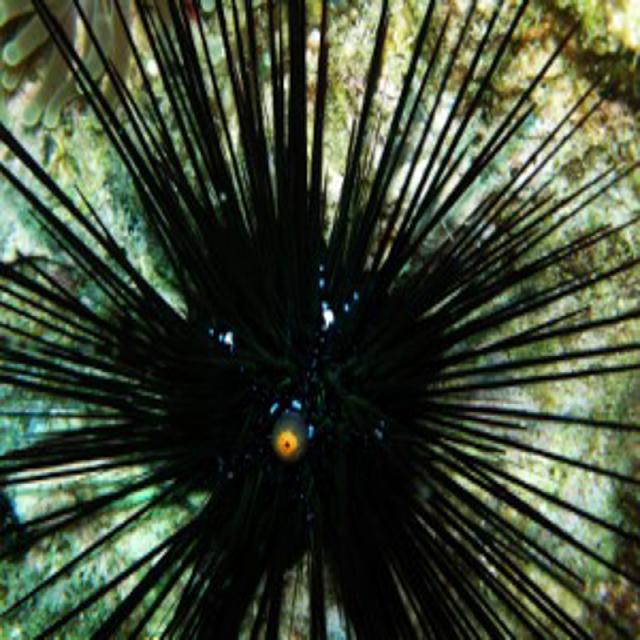Urchin: (9, 9, 626, 626)
